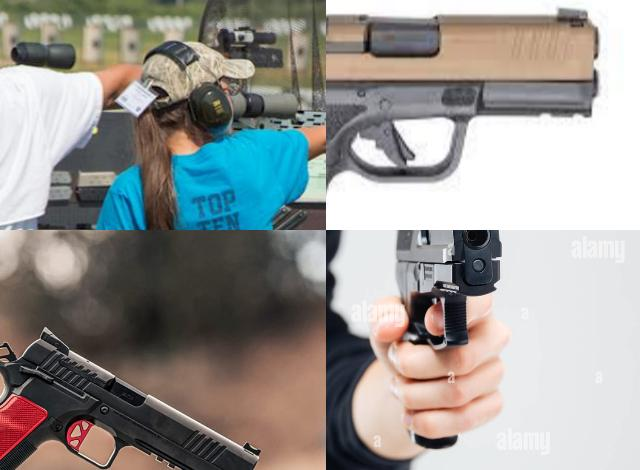handgun: (326, 0, 603, 230), (0, 325, 265, 470), (387, 230, 509, 453)
